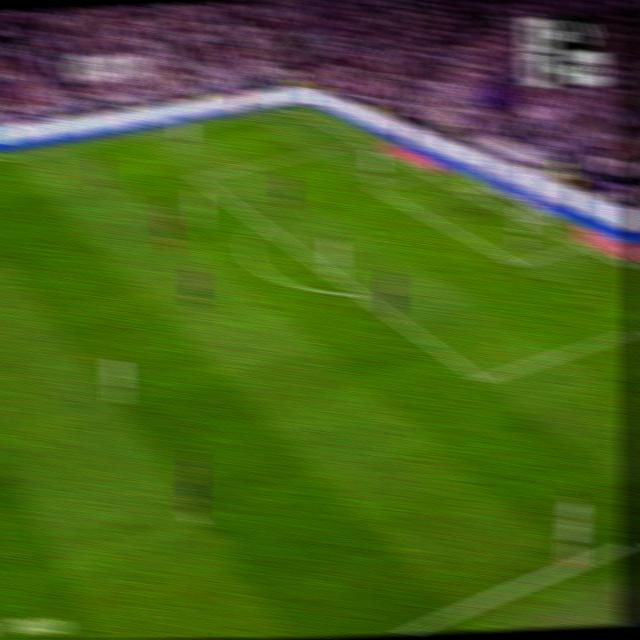bigarea_bottom_inner: (471, 367, 491, 391)
bigarea_top_inner: (190, 170, 205, 183)
bigarea_top_outter: (353, 136, 367, 147)
bottom_arc_area_intersection: (349, 283, 367, 300)
corner: (284, 103, 302, 113)
smallarea_bottom_inner: (508, 254, 527, 274)
smallarea_bottom_outter: (572, 238, 589, 251)
top_arc_area_intersection: (252, 214, 271, 232)
